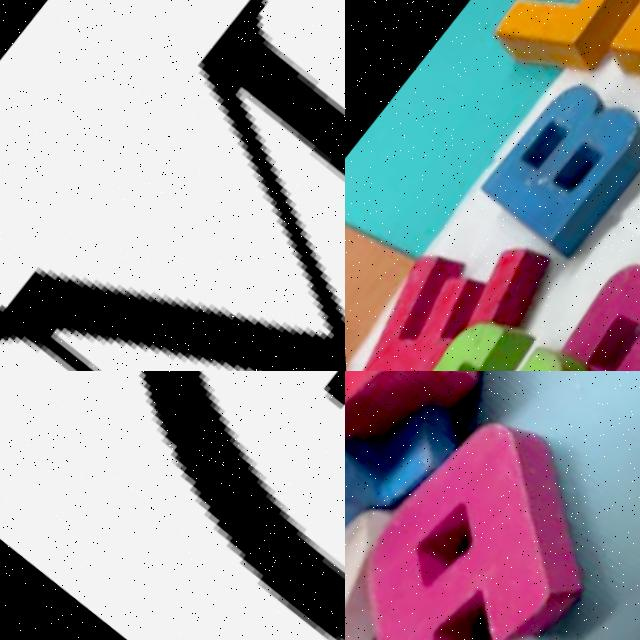A: (345, 392, 640, 640), (501, 233, 640, 371)
B: (454, 58, 640, 275)
C: (355, 289, 608, 371)
E: (345, 181, 568, 371)
G: (0, 371, 345, 640)
L: (479, 0, 640, 111)
M: (0, 0, 345, 371)
R: (576, 0, 640, 139)
Z: (345, 470, 503, 640)
